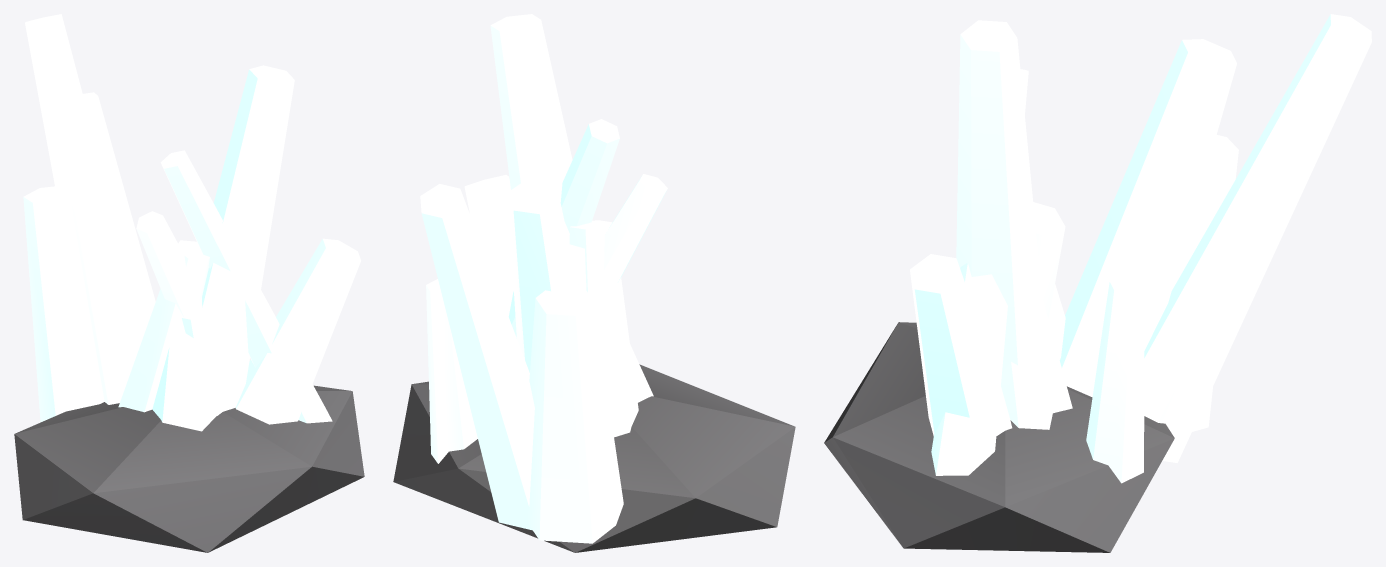
The model's file is crystal_vein_b.glb.
The picture shows the model from 3 angles, left to right: view 1: azimuth 30°, elevation 25°; view 2: azimuth 150°, elevation 25°; view 3: azimuth 270°, elevation 25°; orthographic projection. The views are drawn at different scales.
Visible parts, largest first — view 1: crystal_vein_b; view 2: crystal_vein_b; view 3: crystal_vein_b.
Part boxes in pixels (x1=…): crystal_vein_b: x1=14, y1=14, x2=364, y2=552; crystal_vein_b: x1=393, y1=14, x2=795, y2=552; crystal_vein_b: x1=824, y1=14, x2=1371, y2=552.
Size of the model in its own units: 0.8483 by 1.07 by 0.9973.
